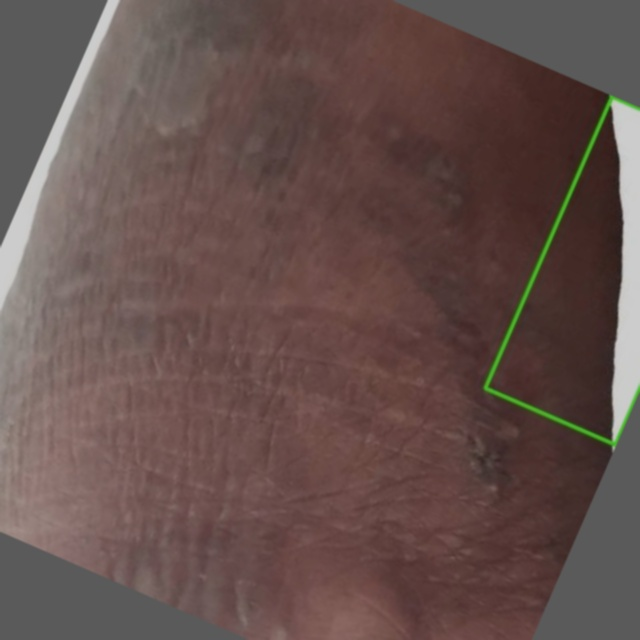Contact Dermatitis: (485, 96, 639, 444)
